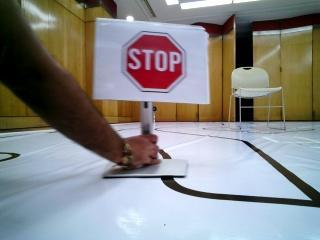stop: (98, 23, 200, 96)
